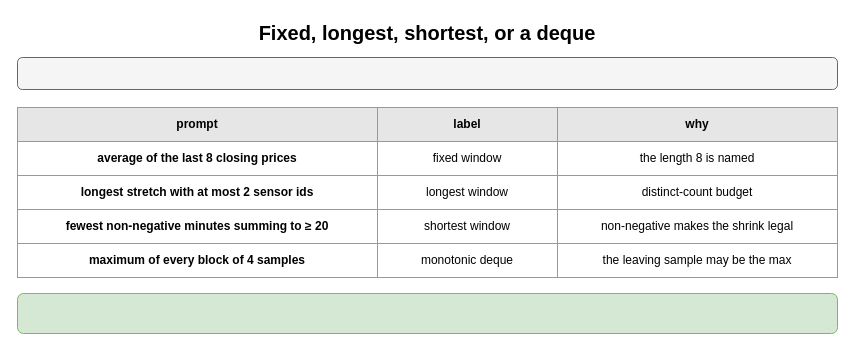
Some shapes in this 855 by 351 pixel diagram are drawn without their labels. The centre of each missing label's shape, as x and y in pixels:
"Answer: Fixed window, longest window, shortest window, monotonic deque." goes at (427,313).
"Label each prompt from the noun in its constraint" goes at (427,73).
